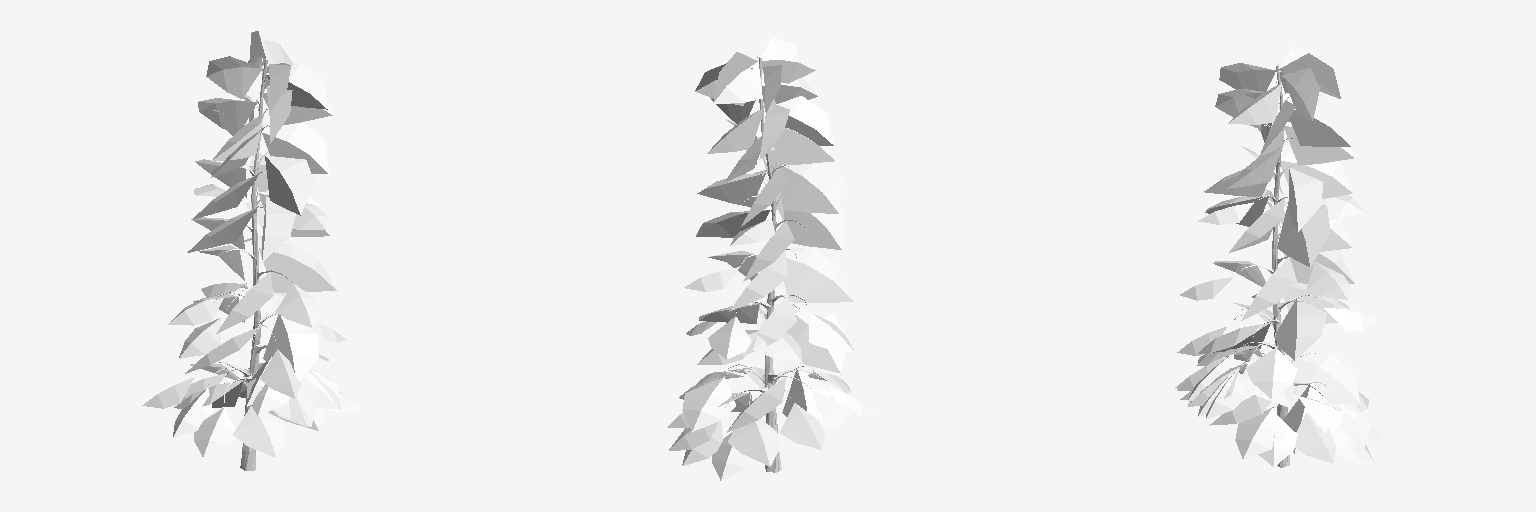
Rendered from fir1.obj.
3 renders of one model, left to right at view 1: azimuth 30°, elevation 25°; view 2: azimuth 150°, elevation 25°; view 3: azimuth 270°, elevation 25°, orthographic.
Visible parts, largest first — view 1: tree; view 2: tree; view 3: tree.
Boxes of the visible parts, <box> form: tree: <box>142,31,361,470</box>; tree: <box>667,37,877,480</box>; tree: <box>1175,46,1384,467</box>.
Bounding box in the file's own units: 206 × 450 × 204.